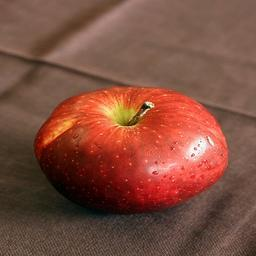apple: (32, 87, 228, 216)
